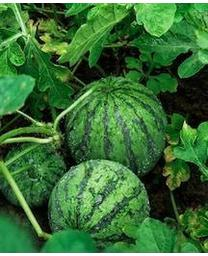watermelon: (66, 76, 168, 179), (50, 159, 149, 244)
